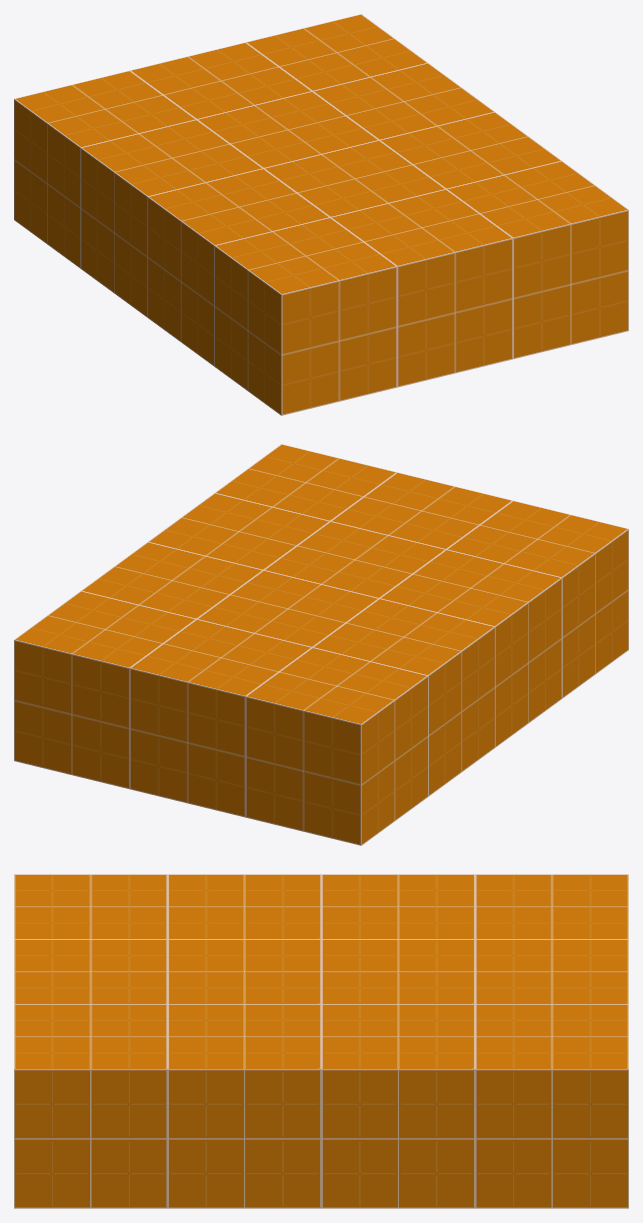
The model's file is Block_3x4x1.obj.
The picture shows the model from 3 angles, top to bottom: view 1: azimuth 30°, elevation 25°; view 2: azimuth 150°, elevation 25°; view 3: azimuth 270°, elevation 25°; orthographic projection. The views are drawn at different scales.
Visible parts, largest first — view 1: Block_3x4x1_Cube.180; view 2: Block_3x4x1_Cube.180; view 3: Block_3x4x1_Cube.180.
Part boxes in pixels (box(x1,y1,x2,y2)): Block_3x4x1_Cube.180: box(14, 14, 628, 415); Block_3x4x1_Cube.180: box(14, 444, 628, 845); Block_3x4x1_Cube.180: box(14, 874, 628, 1208).
Size of the model in its own units: 3 by 1 by 4.
Materials: 1 (1 with a texture image).
